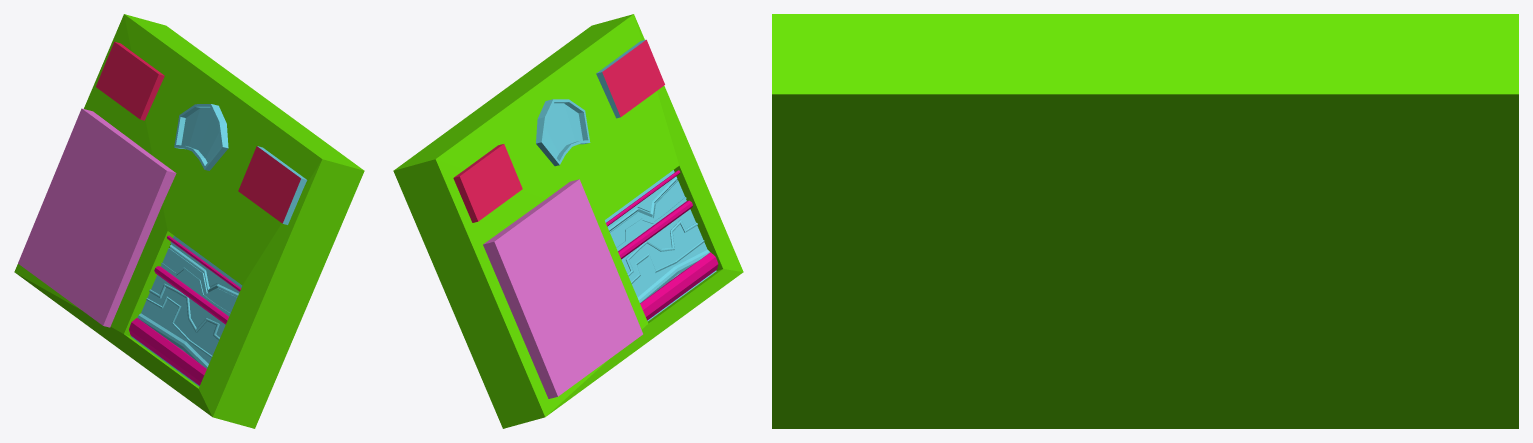
Rendered from SM_RH_Machine.fbx.
3 views of the same model, side by side, from view 1: azimuth 30°, elevation 25°; view 2: azimuth 150°, elevation 25°; view 3: azimuth 270°, elevation 25° (orthographic). The views are drawn at different scales.
Parts seen in each view (by area): view 1: Cube.005; view 2: Cube.005; view 3: Cube.005.
Boxes of the visible parts, box(x1,y1,x2,y2) form: Cube.005: box(14, 14, 364, 428); Cube.005: box(393, 14, 743, 428); Cube.005: box(772, 14, 1518, 428).
Bounding box in the file's own units: 50.14 × 77.5 × 110.
